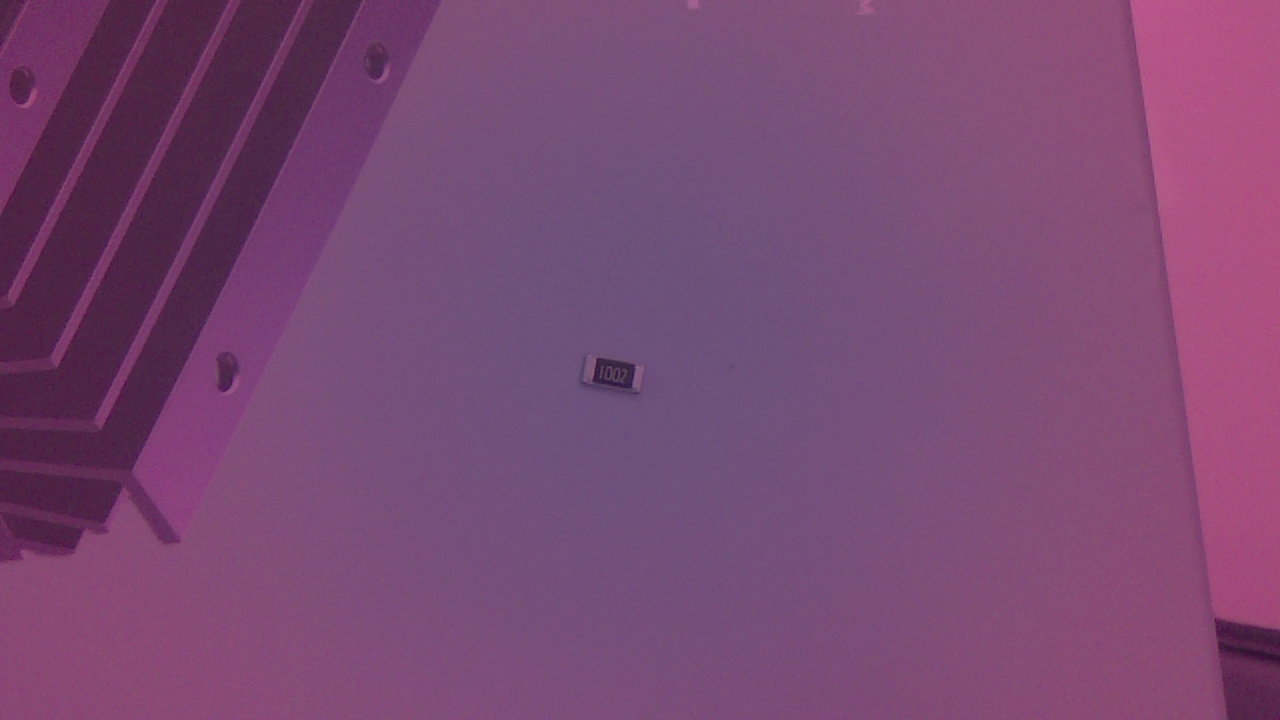Resistor: (580, 352, 653, 409)
